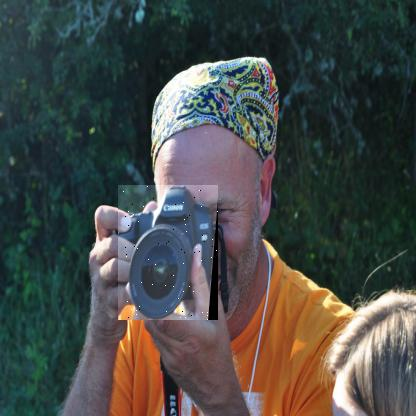Camera: (119, 186, 220, 322)
